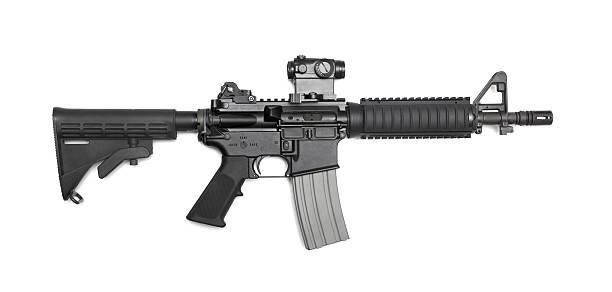larga: (52, 55, 553, 251)
